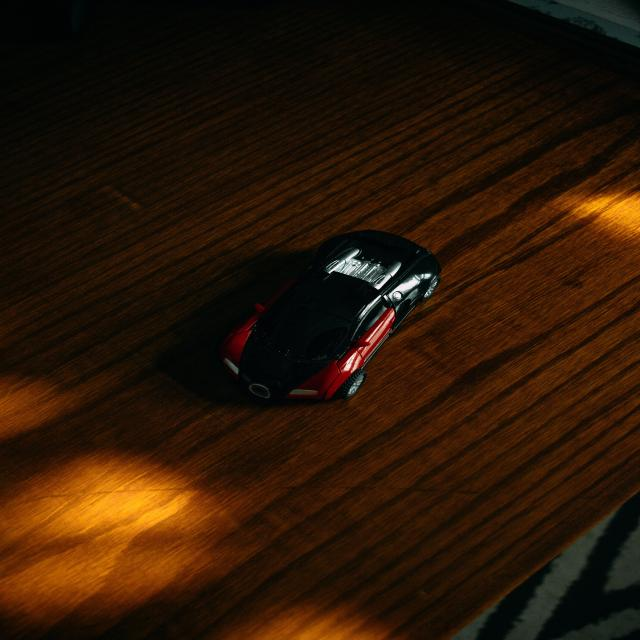Car: (220, 230, 441, 402)
